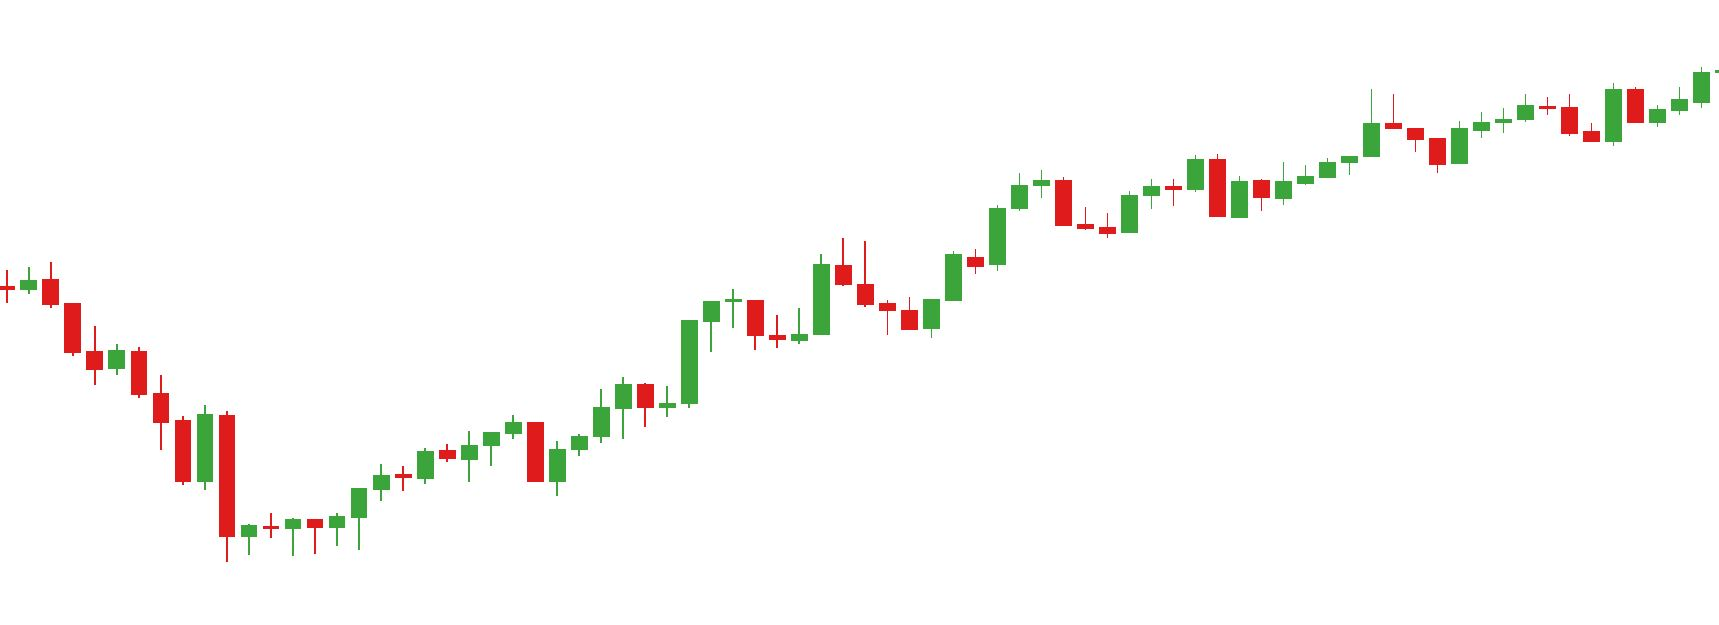buy: (460, 427, 565, 501)
